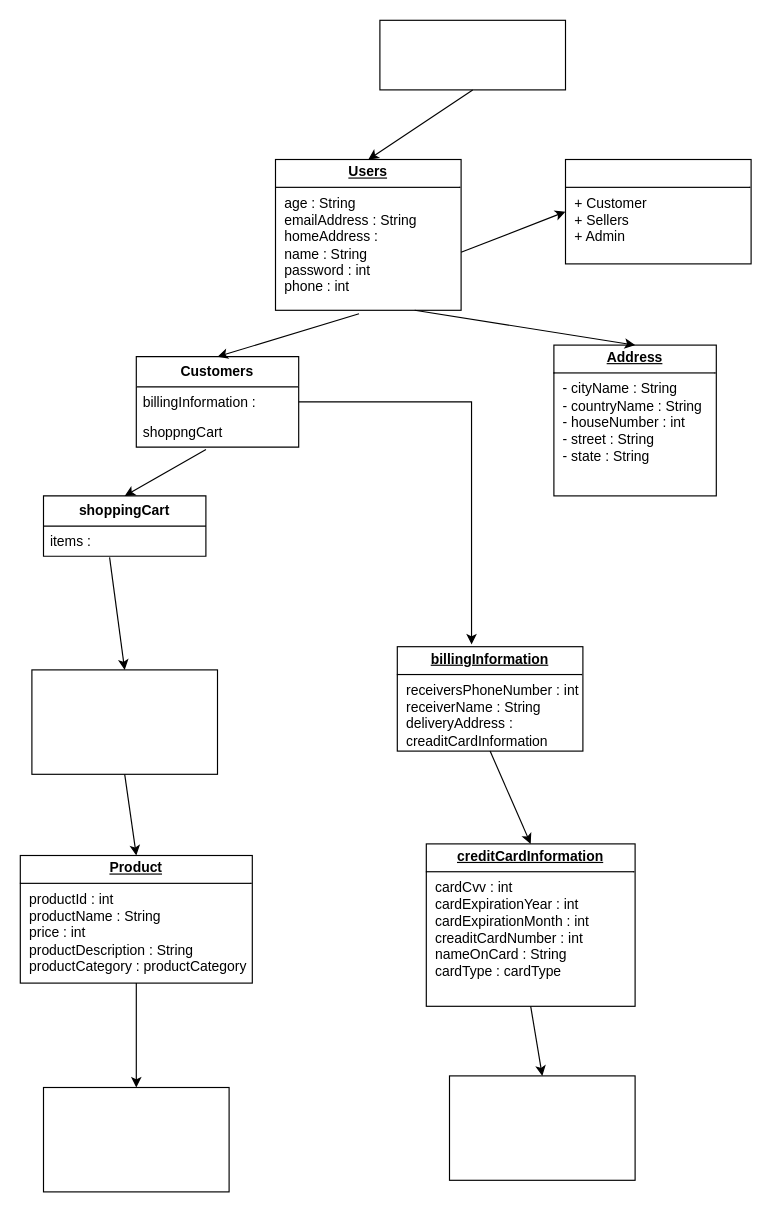
The diagram is 771 pixels wide and 1212 high, and some of its shapes have lost their labels. Here are the shapes that lost their labels. From the top down, the box of each, then its label:
(379, 19, 566, 90): Estore + user
(31, 669, 217, 774): Items quality : int product : product
(42, 1086, 229, 1192): productCategory Electronics Groceries Utensils Clothing
(448, 1075, 635, 1180): cardType + MASTER CARD + VISA CARD + VERVE
